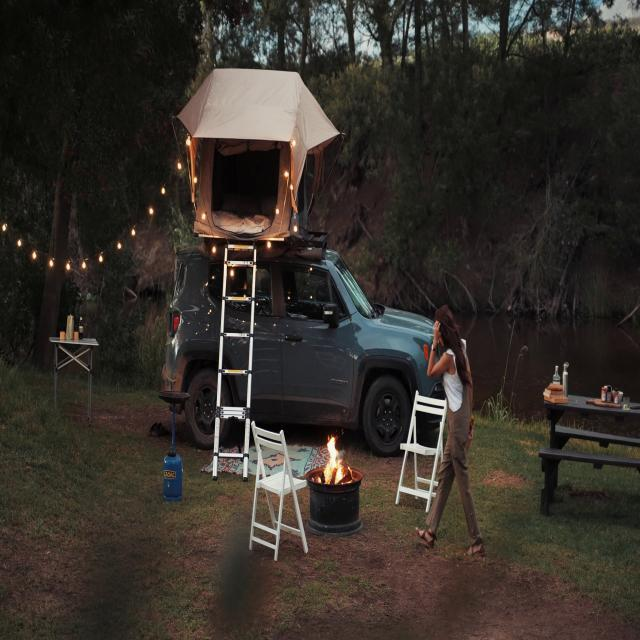Fire: (314, 433, 348, 487)
